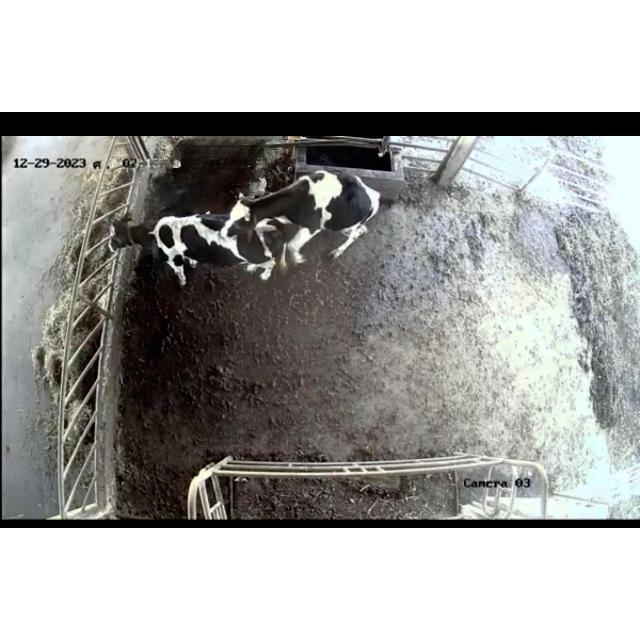ride: (221, 166, 389, 266)
stand: (105, 214, 293, 290)
